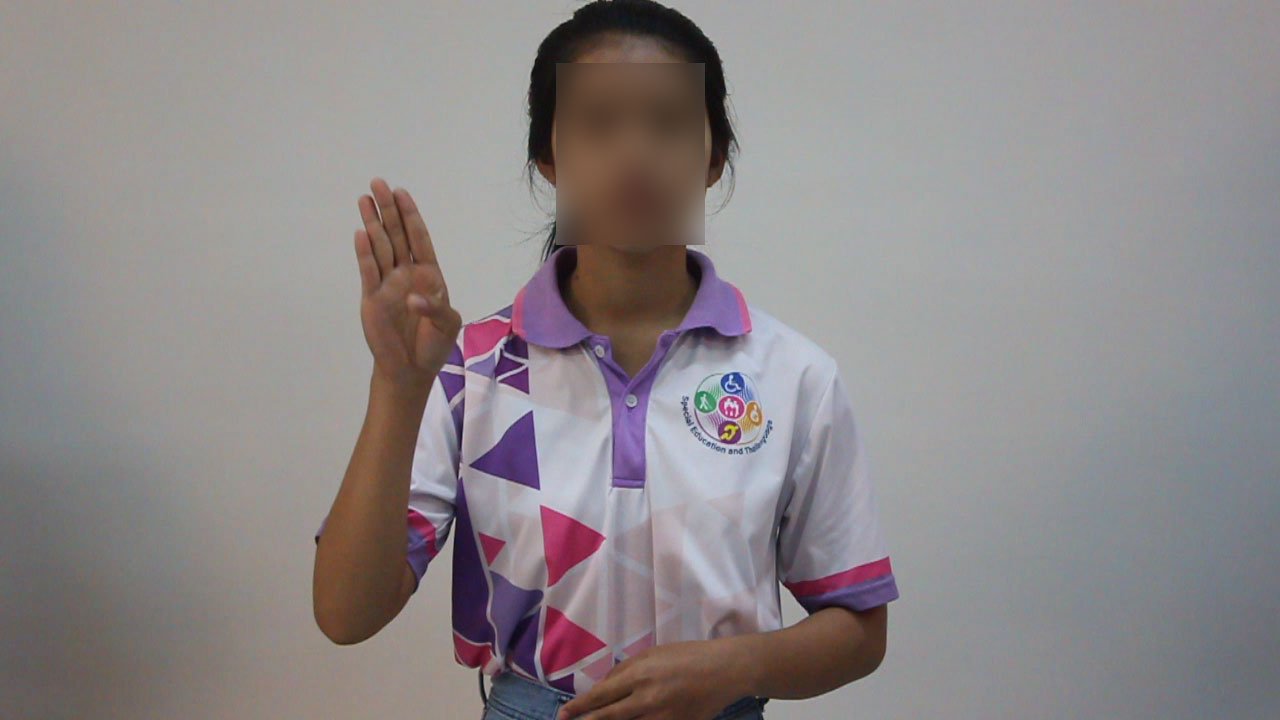bor: (337, 164, 473, 399)
